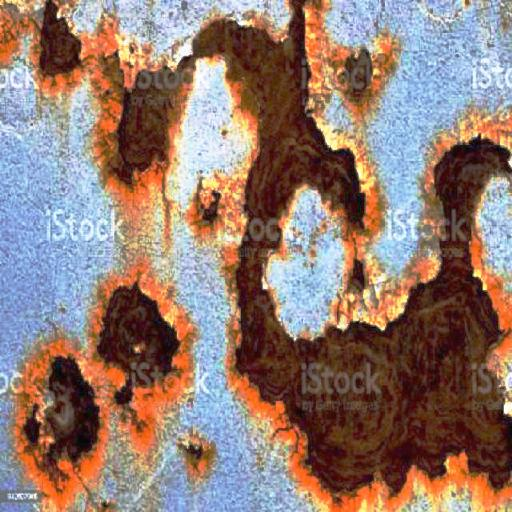corrosion: (224, 256, 512, 496), (191, 3, 379, 240), (12, 289, 190, 499), (32, 0, 184, 186), (417, 132, 512, 247)
